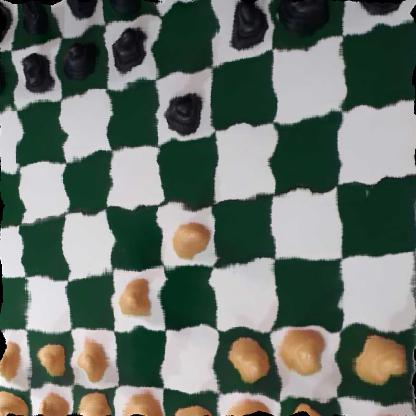black-bishop: (62, 0, 103, 27)
black-king: (159, 0, 205, 3)
black-knight: (13, 0, 49, 43)
black-pawn: (163, 79, 205, 138), (112, 18, 150, 83), (226, 0, 267, 53), (278, 0, 330, 37), (20, 45, 56, 98), (65, 30, 99, 84), (357, 0, 414, 24), (0, 54, 6, 102)
black-queen: (105, 0, 152, 17)
black-rook: (0, 0, 8, 51)
white-bishop: (77, 388, 113, 416), (225, 396, 268, 416)
white-king: (171, 399, 212, 416)
white-knight: (37, 392, 69, 416), (286, 402, 332, 416)
white-pawn: (350, 332, 408, 389), (279, 329, 328, 381), (117, 275, 158, 324), (167, 213, 208, 260), (225, 337, 266, 383), (76, 335, 113, 382), (34, 340, 69, 378), (0, 341, 22, 382)
white-queen: (120, 387, 167, 416)
white-rook: (0, 388, 28, 416), (357, 410, 416, 416)
